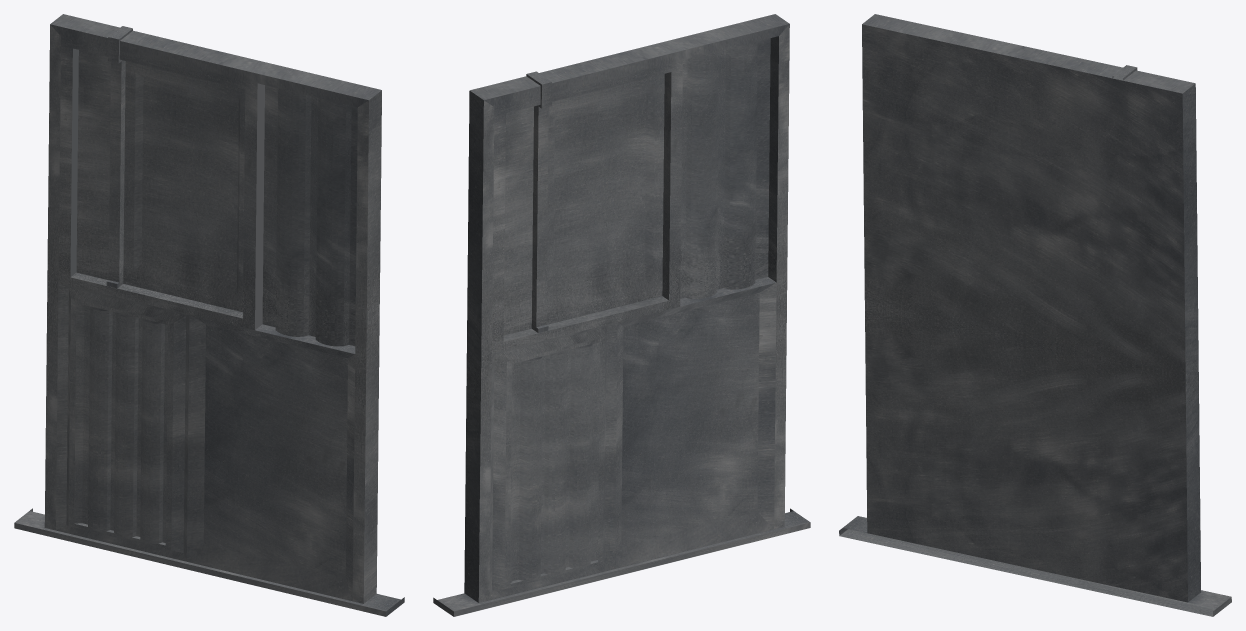
File: main_door.fbx
3 views of the same model, side by side, from view 1: azimuth 90°, elevation 25°; view 2: azimuth 150°, elevation 25°; view 3: azimuth 270°, elevation 25° (orthographic).
Visible parts, largest first — view 1: door; view 2: door; view 3: door.
Part boxes in pixels (<box>): door: <box>14,14,404,616</box>; door: <box>433,14,810,616</box>; door: <box>839,14,1231,616</box>.
Size of the model in its own units: 1.37 by 3.32 by 2.28.
